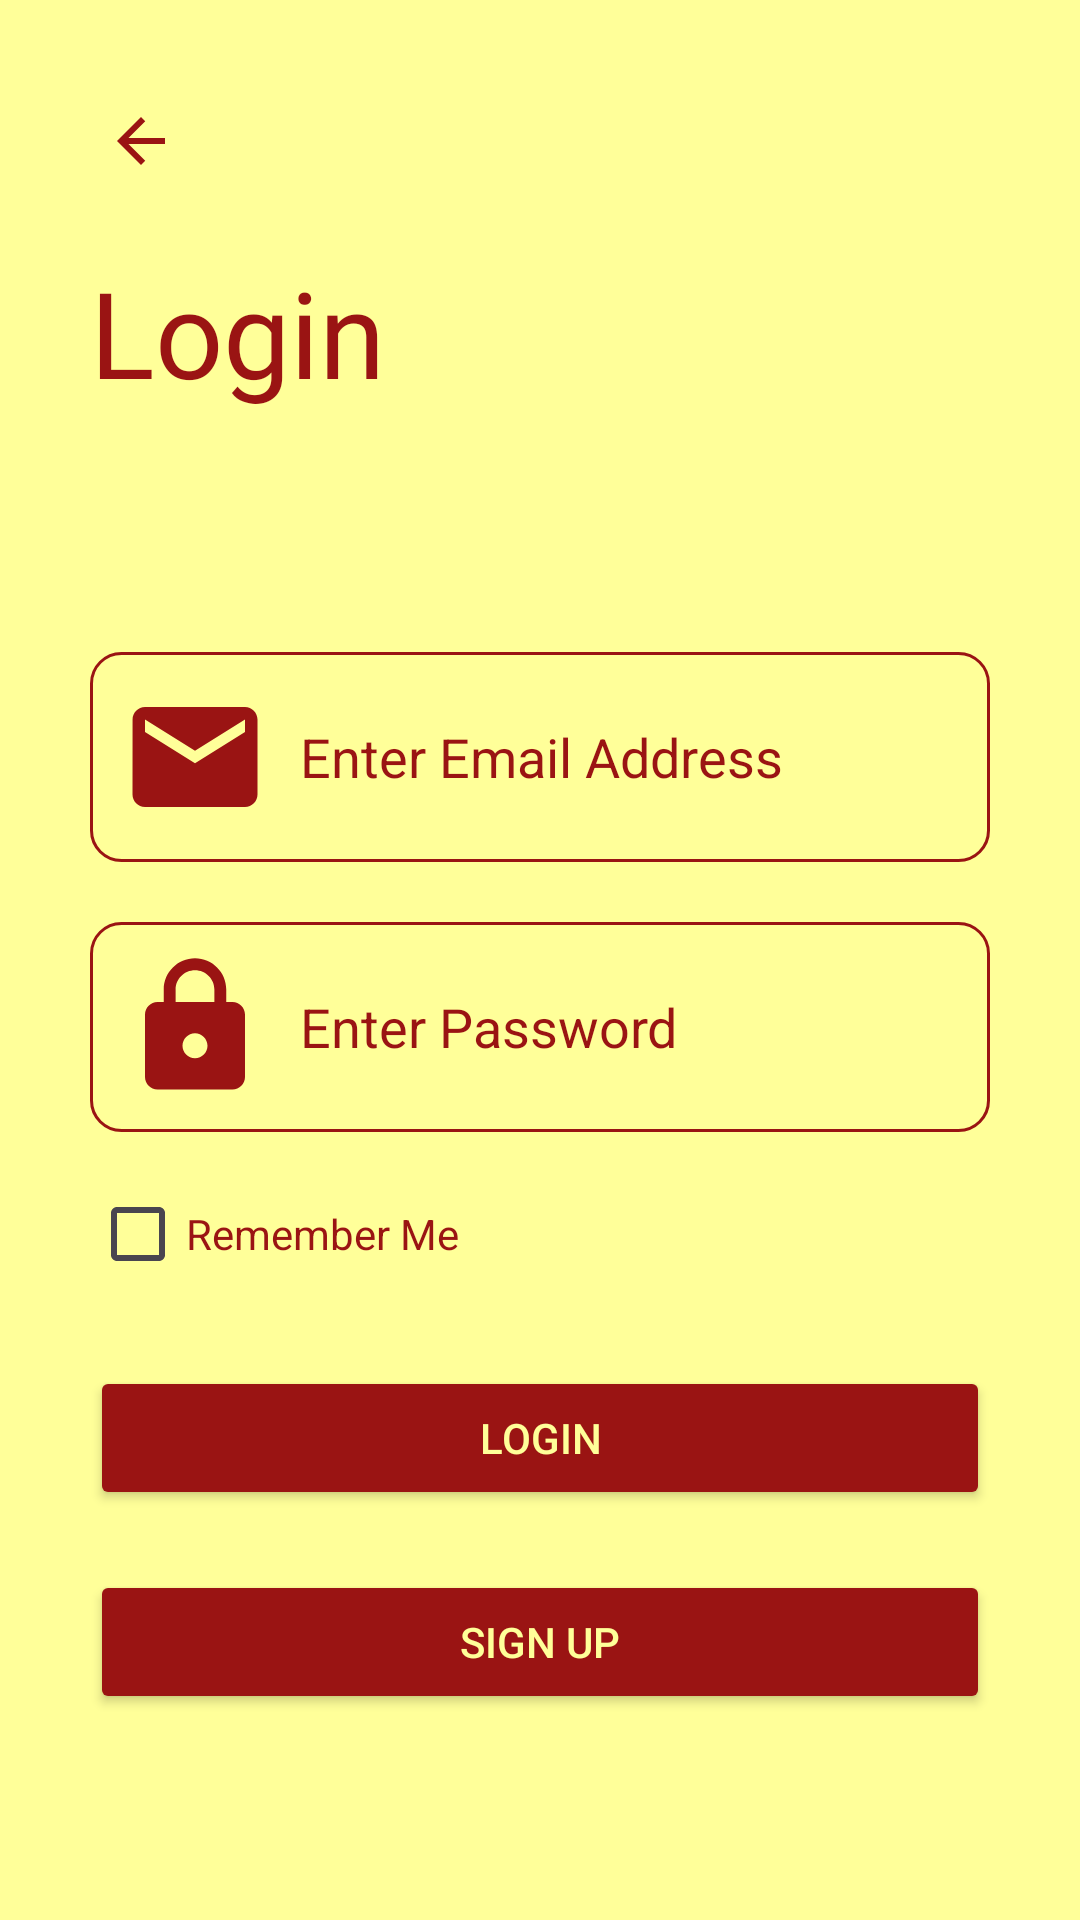

Point at icon controls on the screen. Image size 1080px x 1920px, points as [x,y].
arrow back: [141,141]
